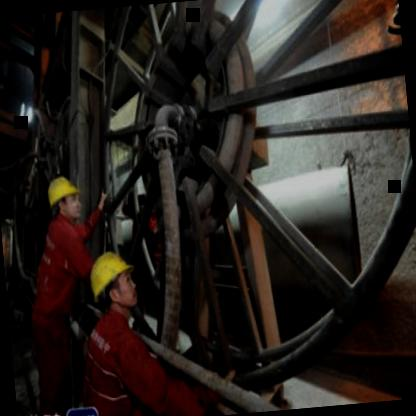helmet: (87, 245, 143, 318), (44, 172, 84, 224)
